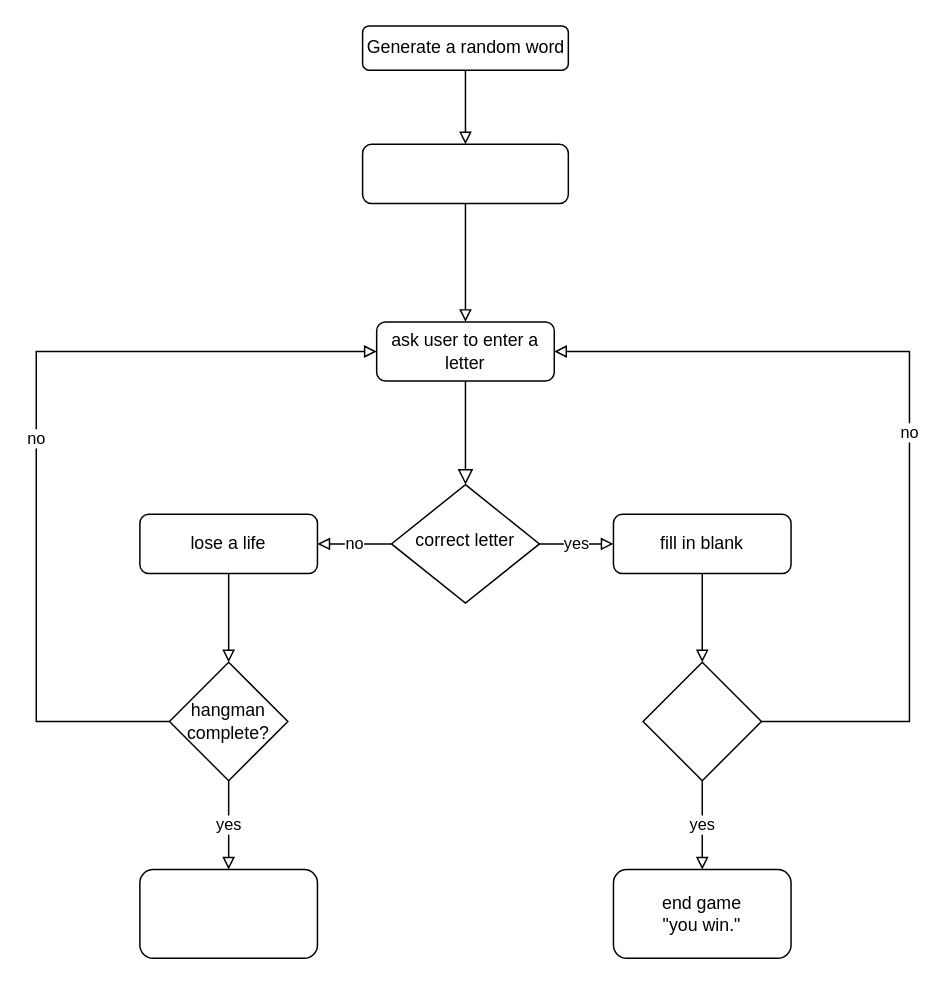
Some shapes in this 947 by 984 pixel diagram are drawn without their labels. The shapes that lost their labels are listed below. From the top down, each one's centre as x and y in pixels, then its label:
(464,173): Generate as many blank spaces as letters
(701,721): puzzle complete?
(227,913): end game "you lose."
